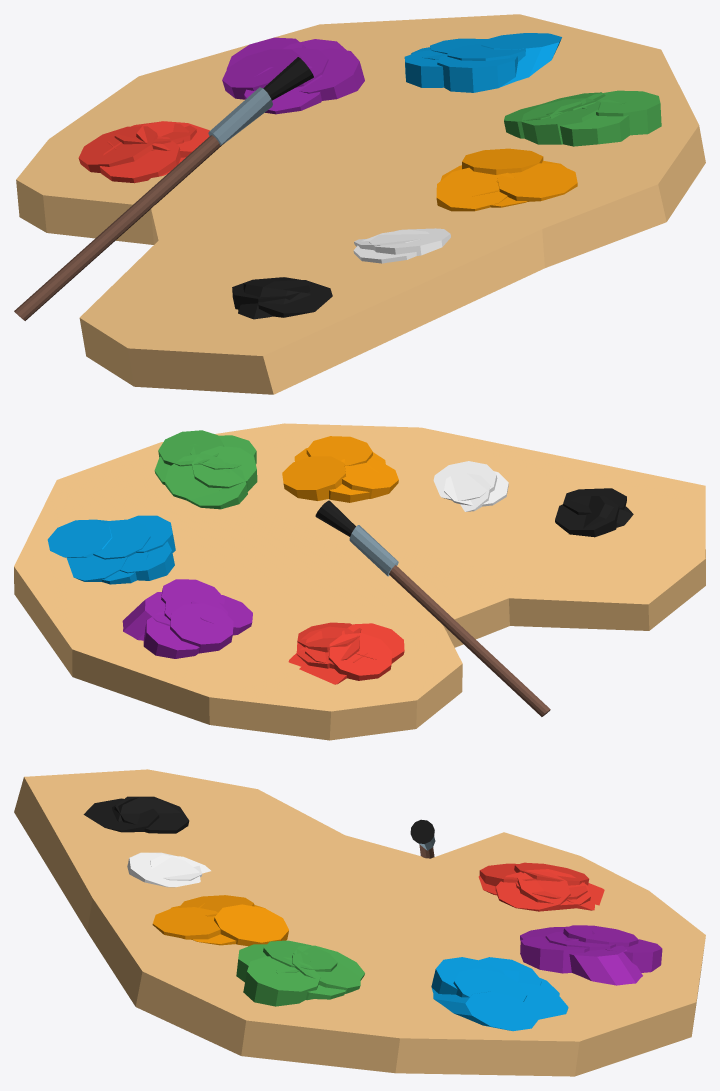
File: palette.glb
3 views of the same model, one above another, from view 1: azimuth 30°, elevation 25°; view 2: azimuth 150°, elevation 25°; view 3: azimuth 270°, elevation 25° (orthographic). The views are drawn at different scales.
Visible parts, largest first — view 1: group1574860539, group1818759354, group686855367, group951691359, group1384989985, group953893450, group1159153237, group232990380, group621005826, group56422566, group1283948824, group1102693292 (+17 smaller); view 2: group1574860539, group1818759354, group953893450, group122212227, group232990380, group1283948824, group621005826, group163514800, group686855367, group1159153237, group532001670, group411329078 (+23 smaller); view 3: group1574860539, group1159153237, group1283948824, group122212227, group74397697, group951691359, group163514800, group754144560, group56422566, group532001670, group621005826, group797385045 (+15 smaller).
Boxes of the visible parts, box(x1,y1,x2,y2) form: group1574860539: box(16, 14, 705, 394); group1818759354: box(14, 135, 224, 320); group686855367: box(436, 167, 514, 211); group951691359: box(497, 163, 577, 201); group1384989985: box(437, 55, 517, 92); group953893450: box(222, 49, 301, 99); group1159153237: box(580, 90, 661, 135); group232990380: box(78, 126, 157, 172); group621005826: box(521, 98, 600, 144); group56422566: box(299, 48, 364, 100); group1283948824: box(481, 33, 561, 87); group1102693292: box(550, 99, 629, 146); group1574860539: box(14, 423, 705, 740); group1818759354: box(389, 565, 550, 716); group953893450: box(170, 603, 233, 653); group122212227: box(282, 456, 345, 500); group232990380: box(328, 633, 392, 680); group1283948824: box(47, 519, 112, 557); group621005826: box(192, 446, 257, 491); group163514800: box(433, 461, 497, 500); group686855367: box(341, 459, 398, 498); group1159153237: box(158, 430, 223, 466); group532001670: box(93, 519, 150, 559); group411329078: box(164, 453, 229, 500); group1574860539: box(14, 769, 705, 1076); group1159153237: box(243, 956, 320, 1006); group1283948824: box(432, 988, 538, 1031); group122212227: box(214, 904, 288, 946); group74397697: box(569, 945, 642, 985); group951691359: box(152, 907, 220, 939); group163514800: box(127, 852, 200, 887); group754144560: box(495, 870, 570, 911); group56422566: box(520, 936, 589, 973); group532001670: box(453, 968, 527, 1001); group621005826: box(263, 940, 337, 971); group797385045: box(83, 798, 159, 832).
Size of the model in its own units: 0.0943 by 0.0266 by 0.0913.
